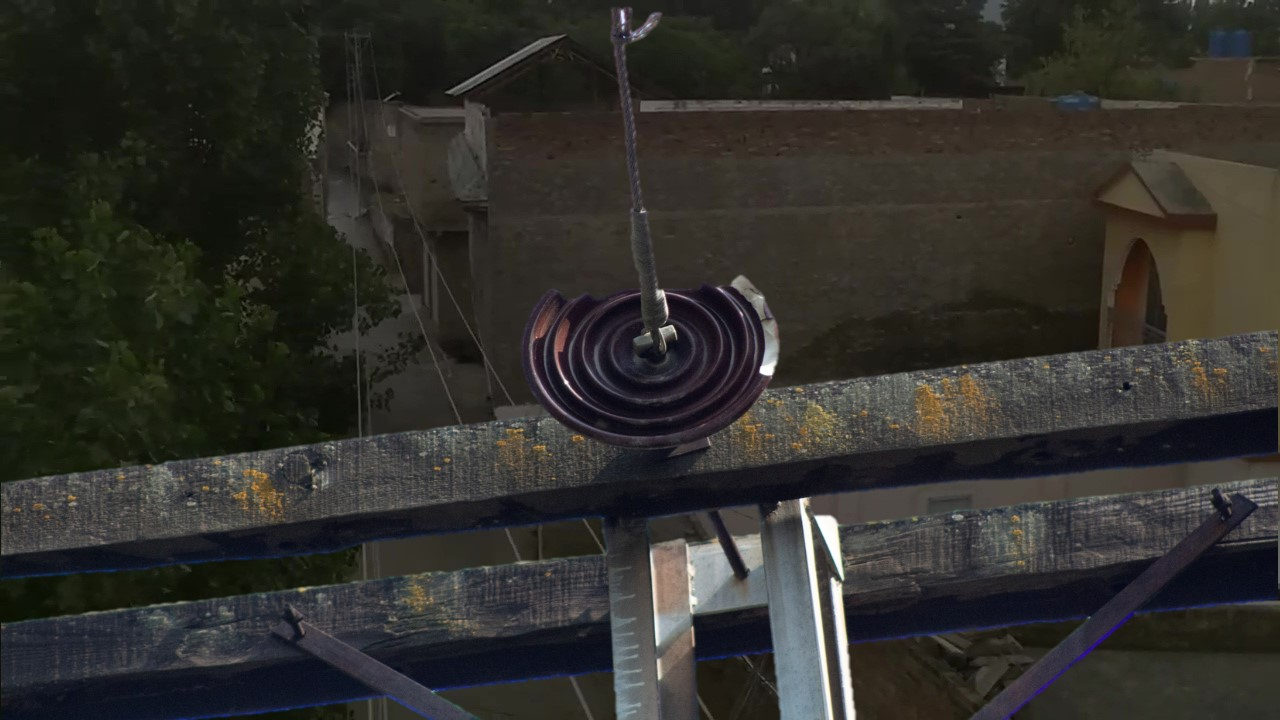defect_disc: (523, 263, 787, 443)
